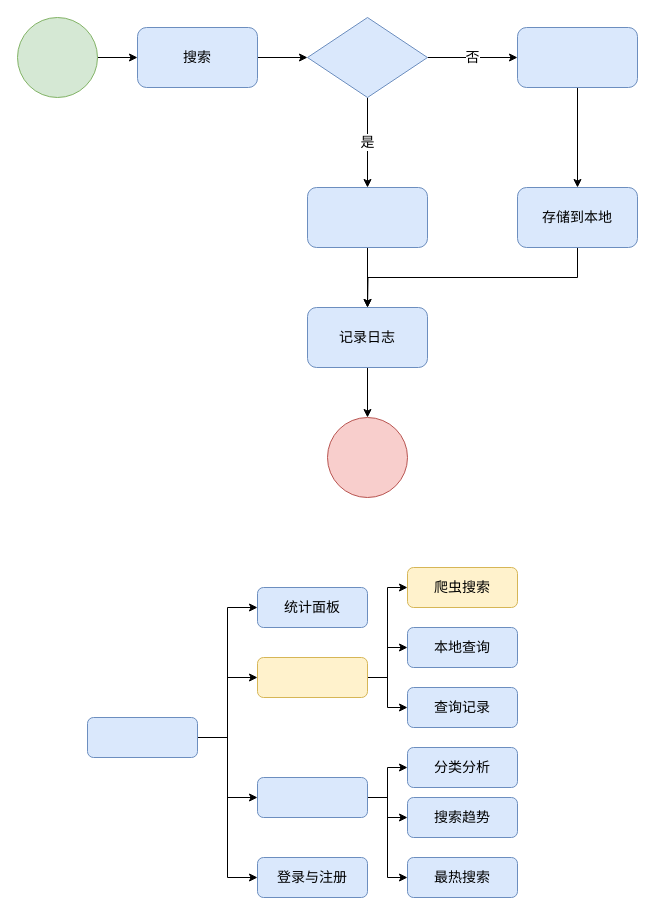
Image size: 655x915. Some labels were removed from this diagram. The shapes that lost their labels are listed below. From the top down, each one's centre as x and y in pixels, then its label:
(367,57): 数据库是否存在
(577,57): 利用爬虫搜索
(367,217): 本地搜索
(312,677): 智能搜索
(142,737): 垃圾分类大数据
(312,797): 可视化
